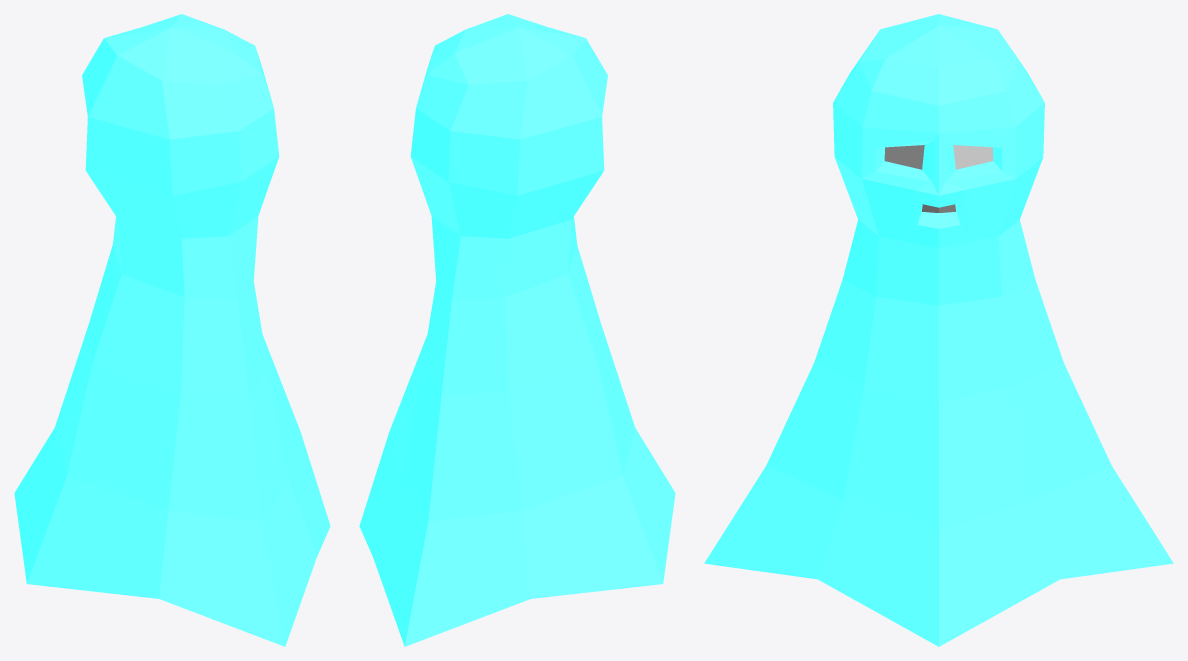
The model's file is Ghost.fbx.
The picture shows the model from 3 angles, left to right: view 1: azimuth 30°, elevation 25°; view 2: azimuth 150°, elevation 25°; view 3: azimuth 270°, elevation 25°; orthographic projection.
Visible parts, largest first — view 1: Ghost_Alt; view 2: Ghost_Alt; view 3: Ghost_Alt.
Boxes of the visible parts, bbox=[...] form: Ghost_Alt: bbox=[14, 14, 330, 646]; Ghost_Alt: bbox=[359, 14, 675, 646]; Ghost_Alt: bbox=[704, 14, 1173, 646].
Size of the model in its own units: 111 by 188 by 147.
